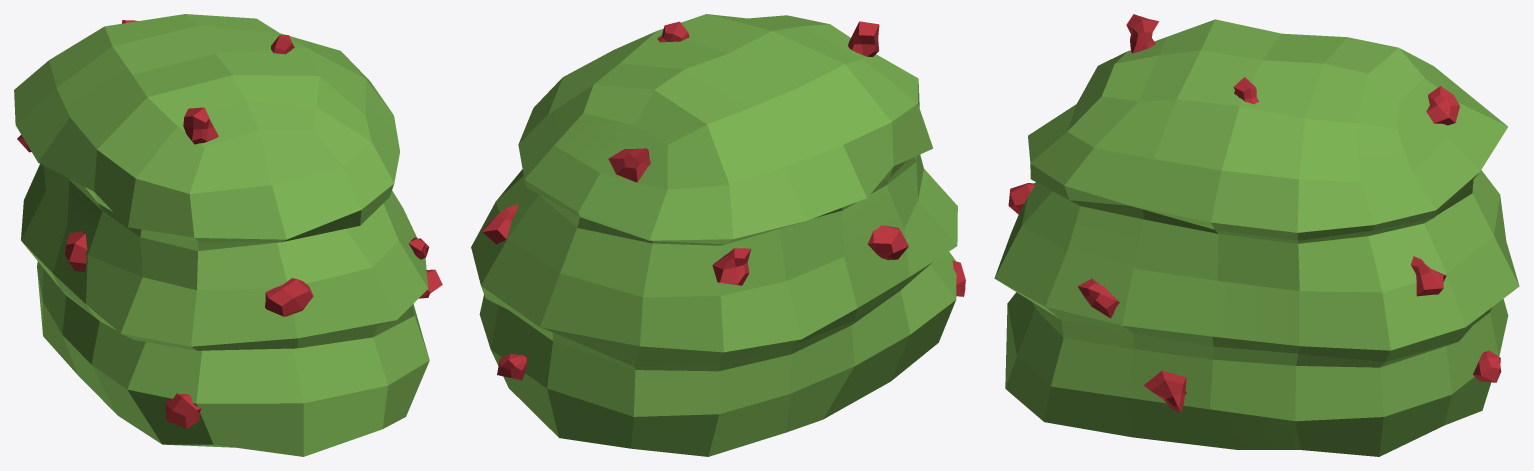
The model's file is BushBerries_1.glb.
3 views of the same model, side by side, from view 1: azimuth 30°, elevation 25°; view 2: azimuth 150°, elevation 25°; view 3: azimuth 270°, elevation 25° (orthographic). The views are drawn at different scales.
Parts seen in each view (by area): view 1: BushBerries_1; view 2: BushBerries_1; view 3: BushBerries_1.
Part boxes in pixels (bbox=[...]): BushBerries_1: bbox=[14, 14, 442, 456]; BushBerries_1: bbox=[471, 14, 965, 456]; BushBerries_1: bbox=[994, 14, 1519, 456].
Bounding box in the file's own units: 1.19 × 1.1 × 1.49.
